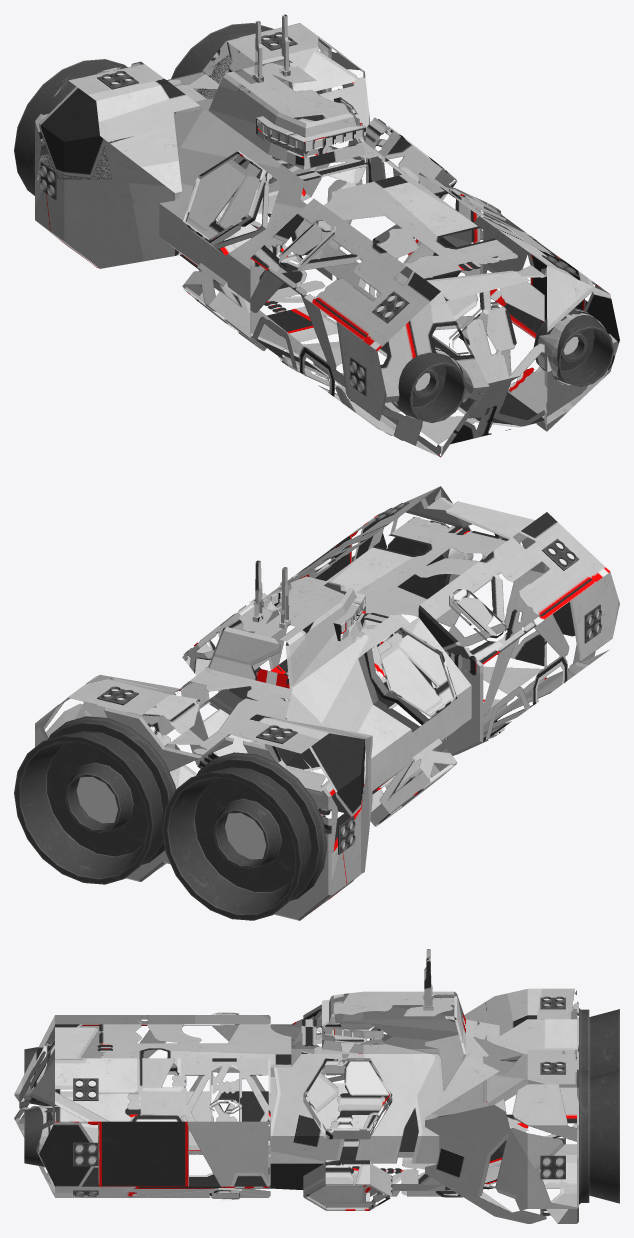
The model's file is Lantock_model.fbx.
3 views of the same model, one above another, from view 1: azimuth 30°, elevation 25°; view 2: azimuth 150°, elevation 25°; view 3: azimuth 270°, elevation 25° (orthographic). The views are drawn at different scales.
Parts seen in each view (by area): view 1: Hull_LOD0, Engines_LOD0, EngineGlow_LOD0, BridgeWindows_LOD0; view 2: Hull_LOD0, Engines_LOD0, EngineGlow_LOD0; view 3: Hull_LOD0, Engines_LOD0, EngineGlow_LOD0.
Part boxes in pixels (left/top/right/bottom): Hull_LOD0: left=35, top=14, right=619, bottom=457; Engines_LOD0: left=14, top=23, right=614, bottom=440; EngineGlow_LOD0: left=42, top=34, right=578, bottom=390; BridgeWindows_LOD0: left=258, top=100, right=362, bottom=150; Hull_LOD0: left=35, top=486, right=619, bottom=920; Engines_LOD0: left=14, top=502, right=601, bottom=920; EngineGlow_LOD0: left=76, top=543, right=599, bottom=859; Hull_LOD0: left=14, top=949, right=578, bottom=1223; Engines_LOD0: left=24, top=996, right=619, bottom=1216; EngineGlow_LOD0: left=75, top=998, right=563, bottom=1212.
Size of what is drawn, in the model's own units: 286 by 590 by 244.
4 materials, 2 textured.
